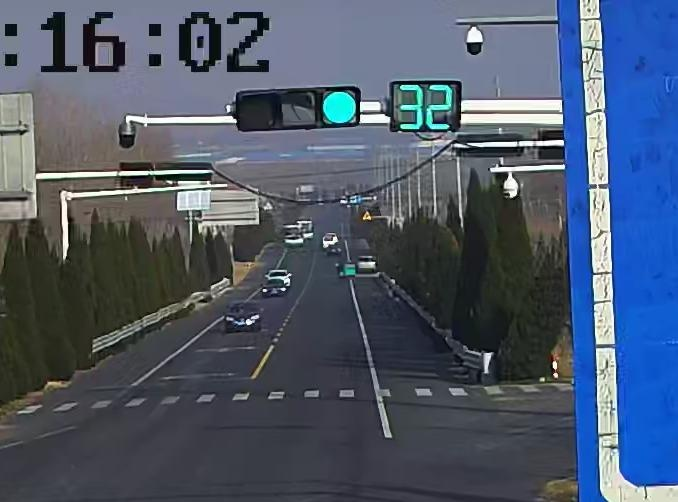green: (320, 87, 361, 126)
greentime: (395, 80, 457, 134)
